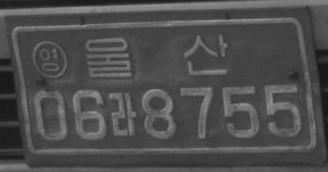0: (31, 88, 68, 142)
5: (262, 82, 302, 139), (220, 84, 260, 138)
6: (71, 88, 106, 141)
7: (179, 85, 214, 140)
8: (141, 88, 176, 141)
영: (30, 39, 68, 79)
울산_D: (84, 32, 228, 79)
타: (108, 92, 137, 137)
